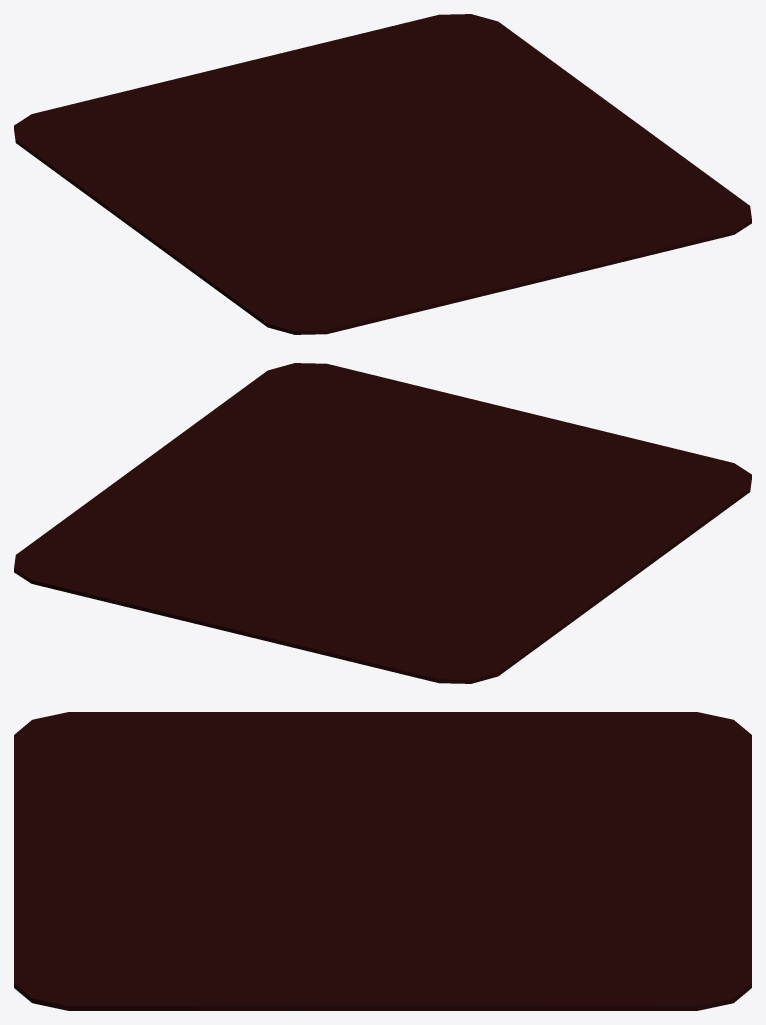
The model's file is W_M_Playground_O_L3.fbx.
3 renders of one model, top to bottom at view 1: azimuth 30°, elevation 25°; view 2: azimuth 150°, elevation 25°; view 3: azimuth 270°, elevation 25°, orthographic. The views are drawn at different scales.
Visible parts, largest first — view 1: W_M_Playground_O_L3; view 2: W_M_Playground_O_L3; view 3: W_M_Playground_O_L3.
Boxes of the visible parts, box(x1,y1,x2,y2) form: W_M_Playground_O_L3: box(14, 14, 751, 334); W_M_Playground_O_L3: box(14, 363, 751, 683); W_M_Playground_O_L3: box(14, 712, 751, 1010).
Bounding box in the file's own units: 17.08 × 0.13 × 18.12.
